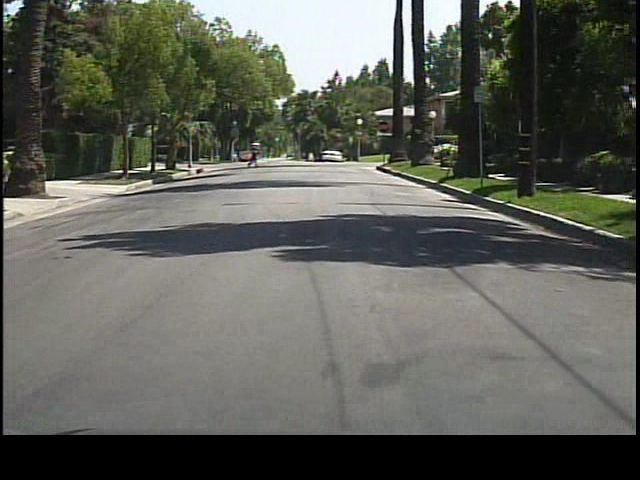person: (248, 138, 262, 169)
